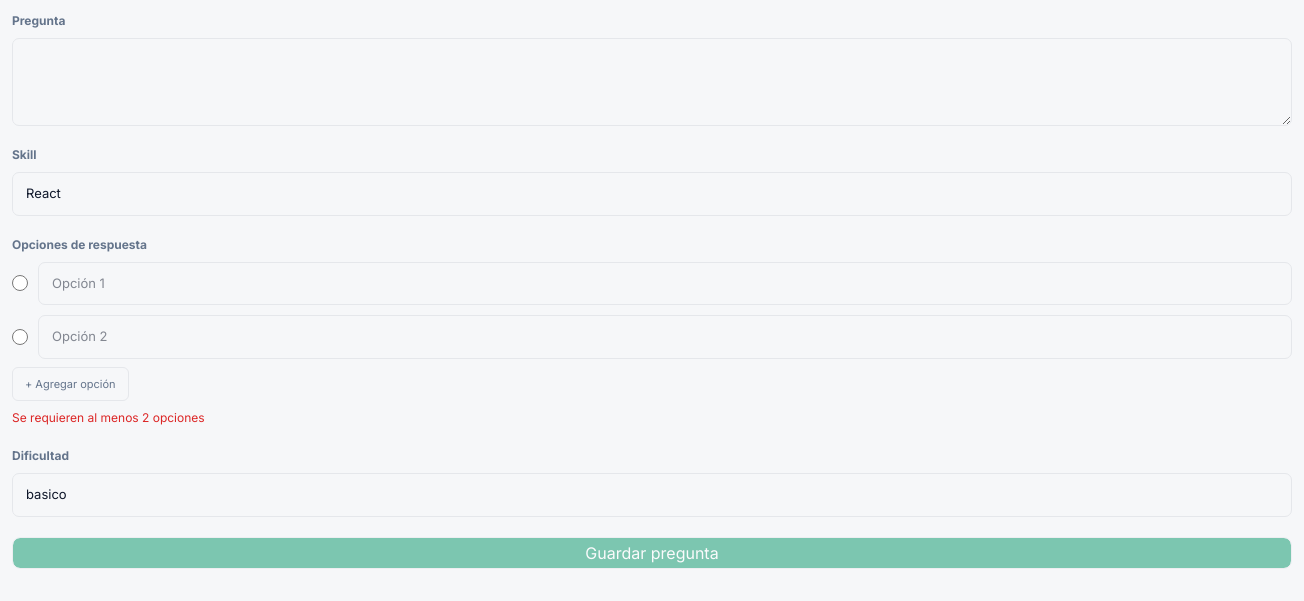
Test: ExamQuestionForm › blocks submit with "Las opciones no pueden repetirse" for case-insensitive duplicates
Expected: the dropdown labelled "Skill" is enabled, [12,172,1292,216]
Type "Pregunta suficientemente larga" into the text box labelled "Pregunta" at (652, 82), box [12,38,1292,126]
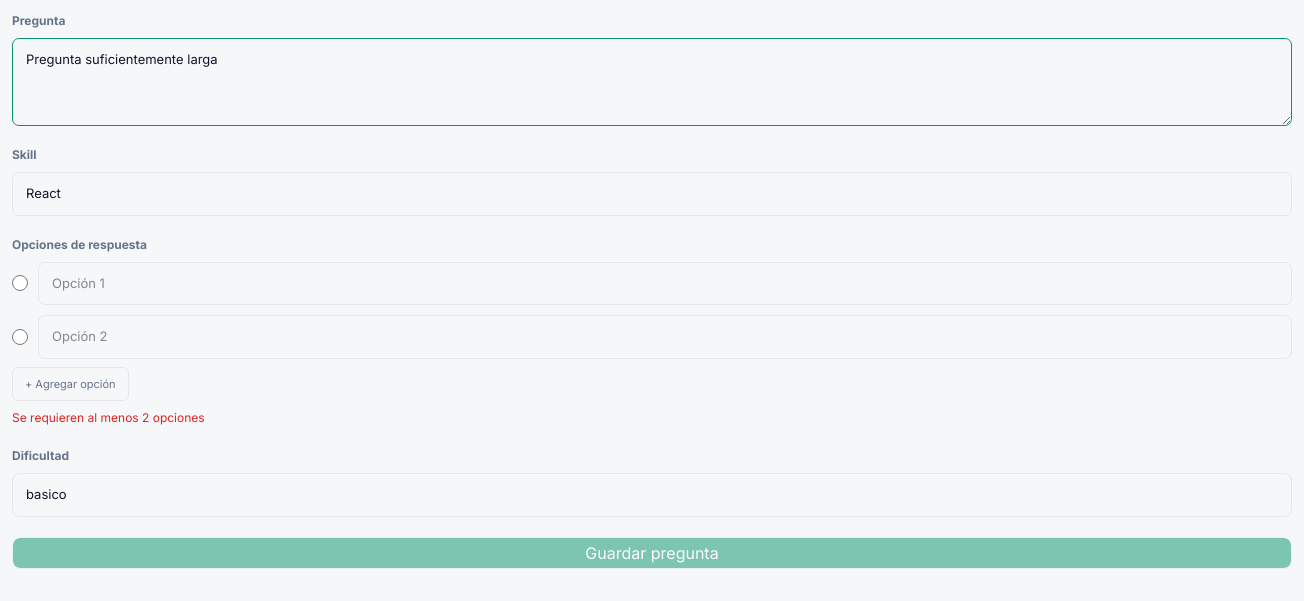
Type "Sí" into the field labelled "Opción 1" at (665, 283), box [38,262,1292,305]
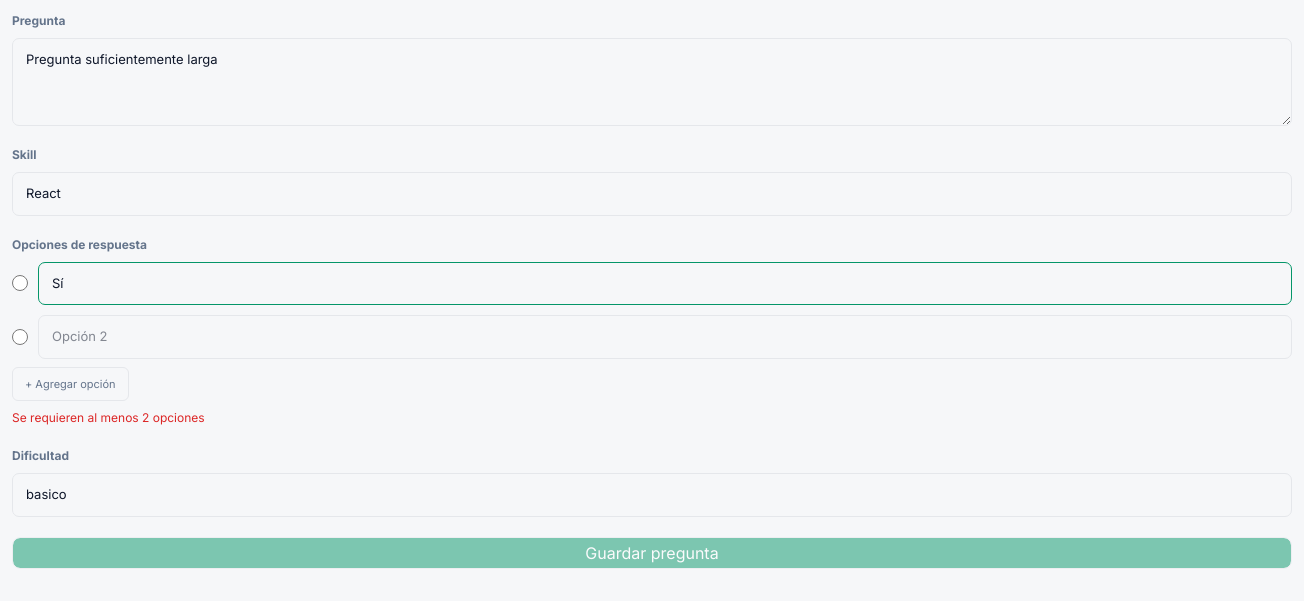
Type "sí" into the field labelled "Opción 2" at (665, 337), box [38,315,1292,358]
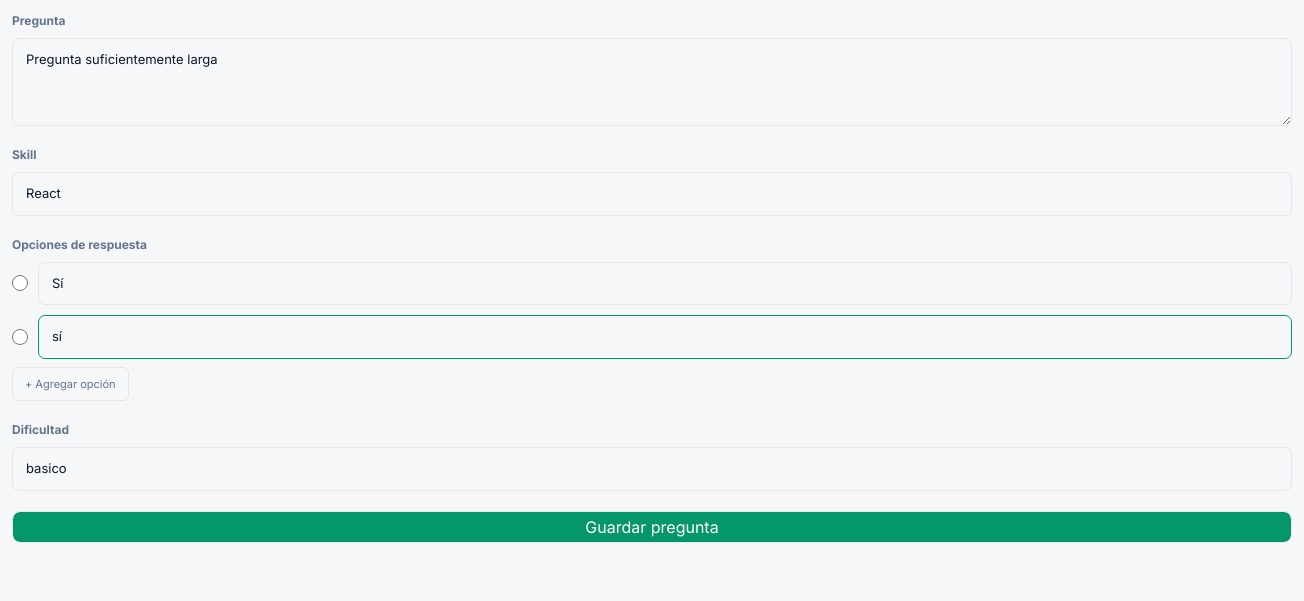
Click the radio button named "Marcar opción 1 como correcta" at (20, 283), box [12,275,28,291]
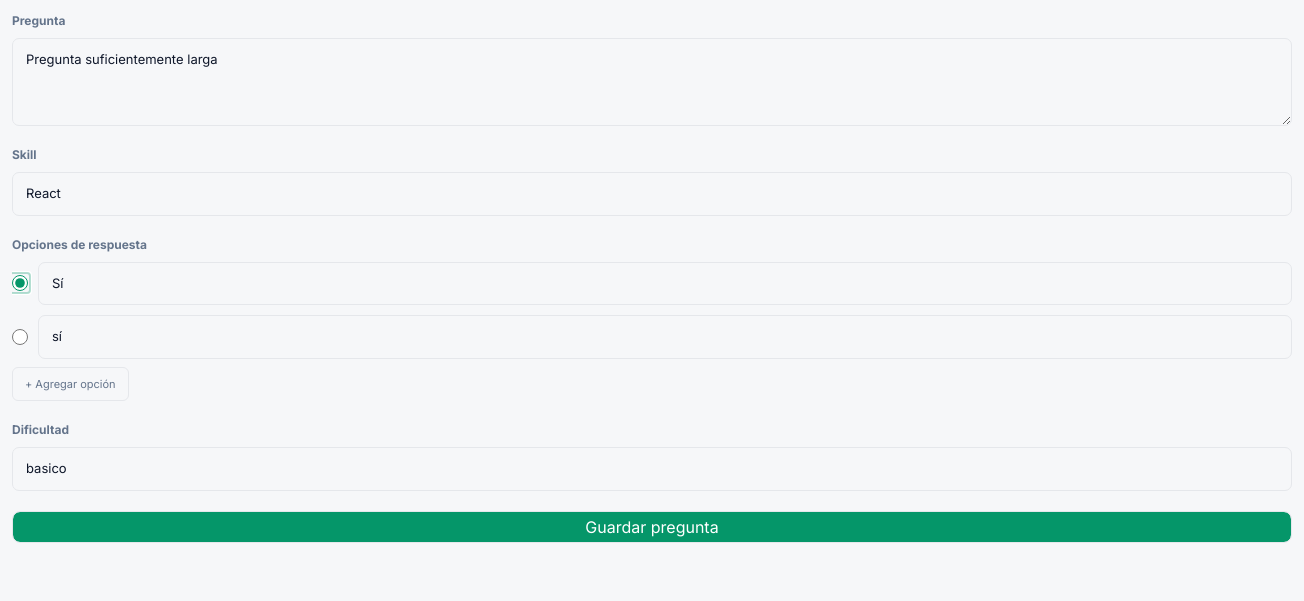
Click the button "Guardar pregunta" at (652, 526), box [12,510,1292,542]
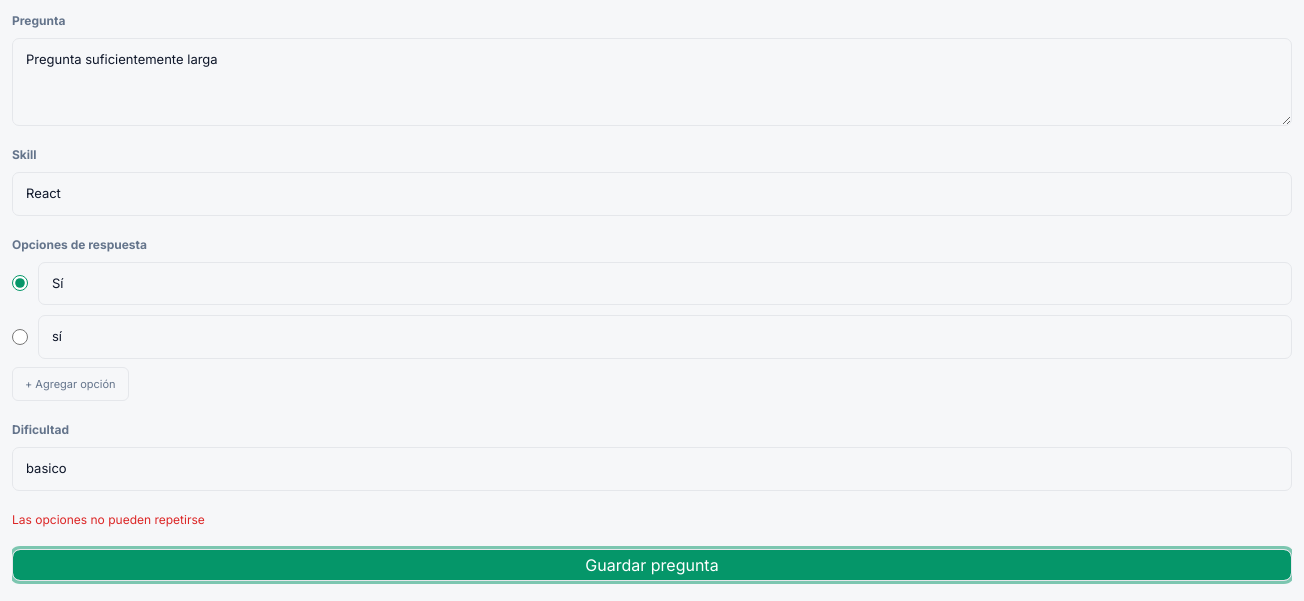
Expected: the text "Las opciones no pueden repetirse" is shown, [12,512,205,526]
